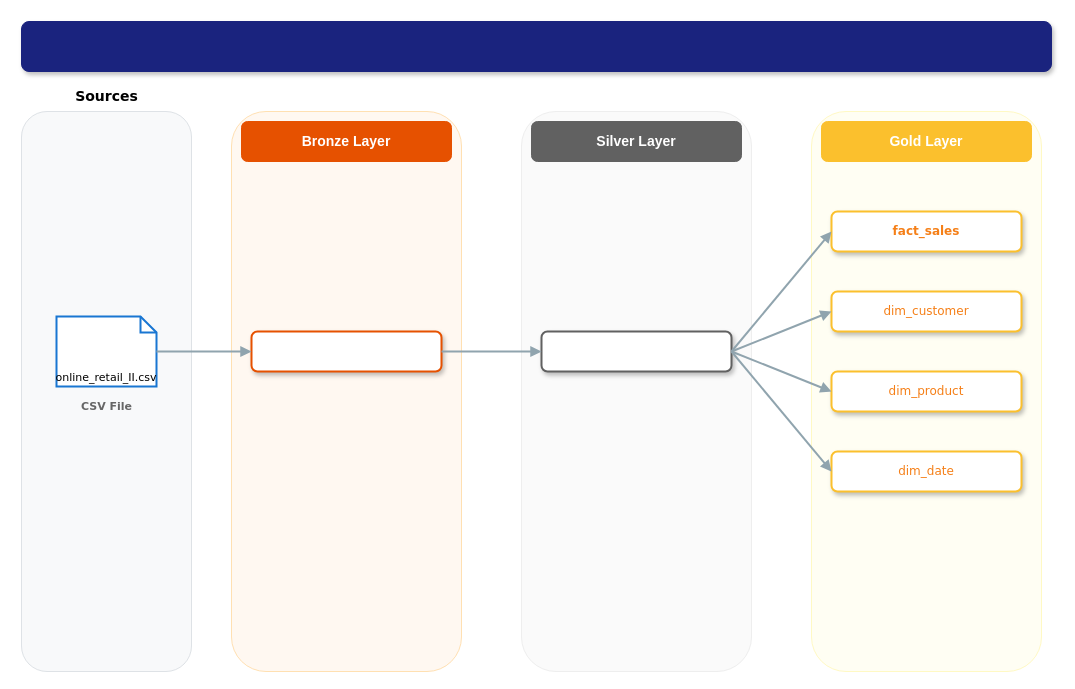
This 1075x689 diagram has some shape labels left out. The shapes that lost their labels are listed below. From the top down, each one's centre as x and y in pixels, then its label:
At point (537, 47): "Data flow (Data Lineage)".
At point (347, 352): "bronze.online_retail_II".
At point (637, 352): "silver.online_retail_II".
